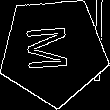M_E: (28, 25, 80, 76)
